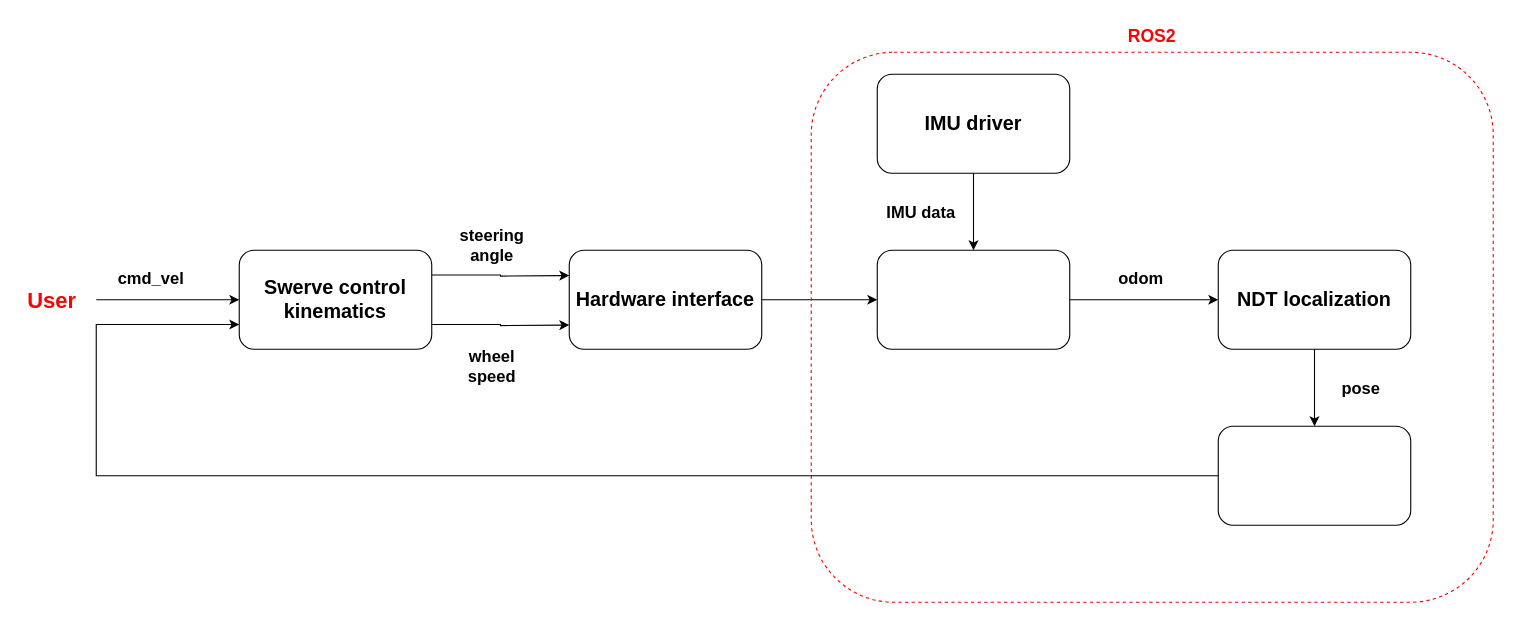
This 1513x622 diagram has some shape labels left out. Here are the shapes that lost their labels. From the top down, the centre of each, then its label:
At point 973,299: "Odom estimator".
At point 1314,475: "Nav2".
